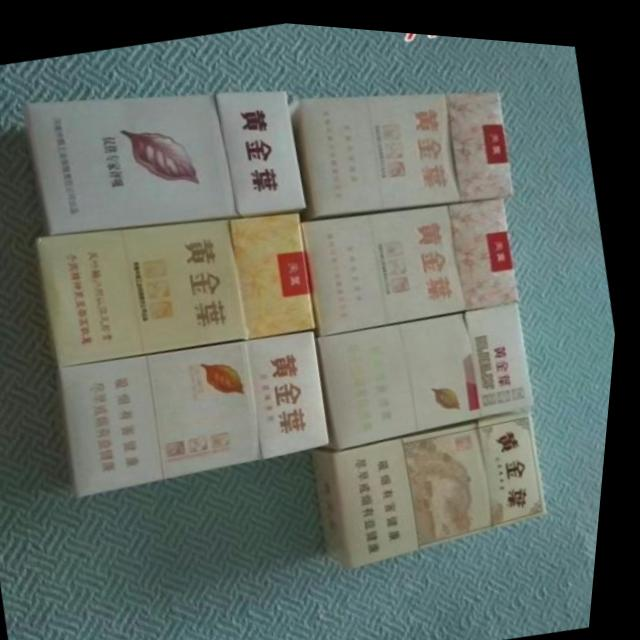box: (62, 322, 338, 494), (42, 208, 322, 364), (26, 83, 311, 234), (320, 397, 555, 561), (321, 292, 541, 444), (304, 188, 523, 331), (289, 81, 519, 216)
